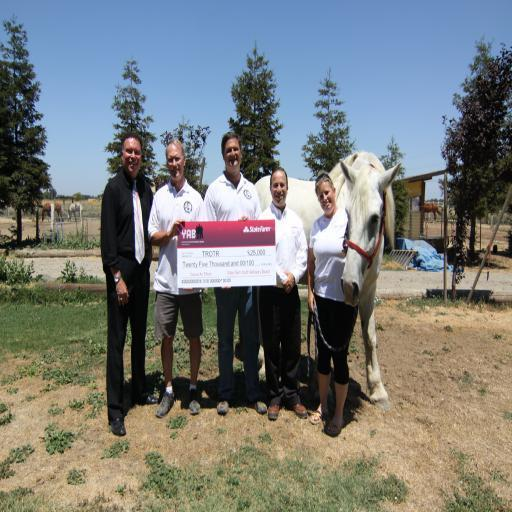horse: (254, 148, 404, 412), (40, 200, 62, 222), (64, 200, 84, 222)
